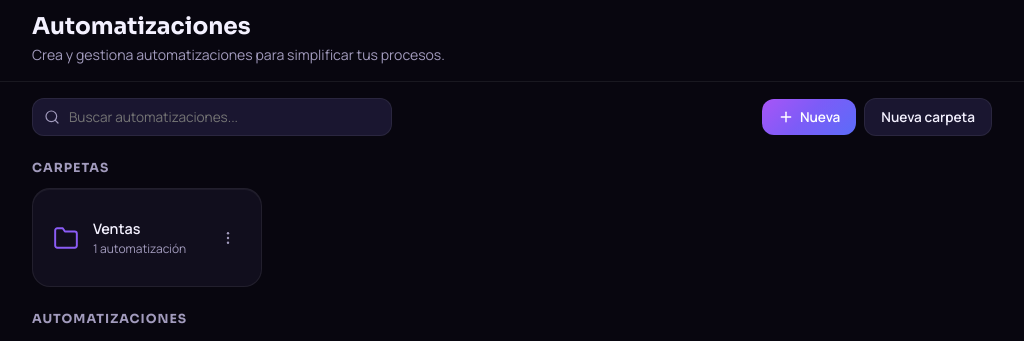
Test: abrir una carpeta › dice dónde estamos y ofrece el camino de vuelta
The image size is (1024, 341).
Expected: the text "Ventas" is shown, [93,219,140,238]
Click the button "Ventas 1 automatización".
click(147, 238)  # box [32,188,262,287]
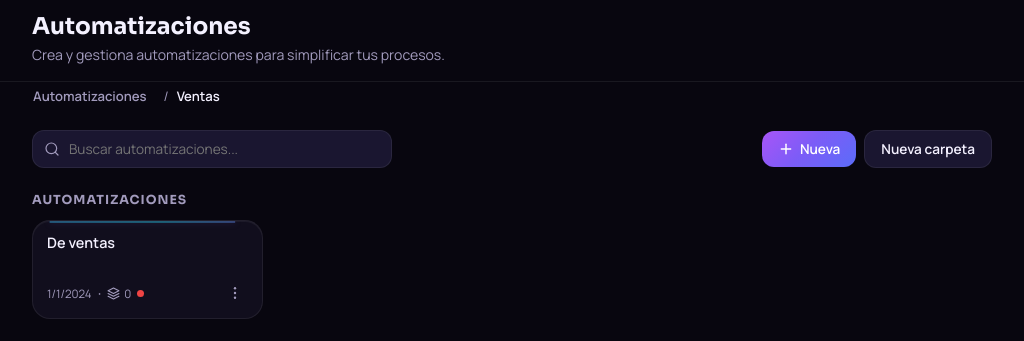
Now the navigation bar named "Ubicación" shows "Automatizaciones", box [24,82,156,110]
Now the navigation bar named "Ubicación" shows "Ventas", box [177,87,220,105]
